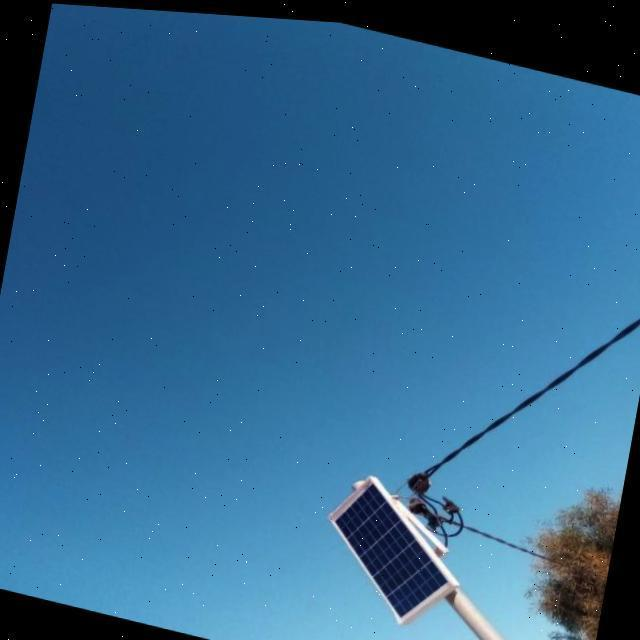Normal Solar Panel: (312, 462, 468, 628)
